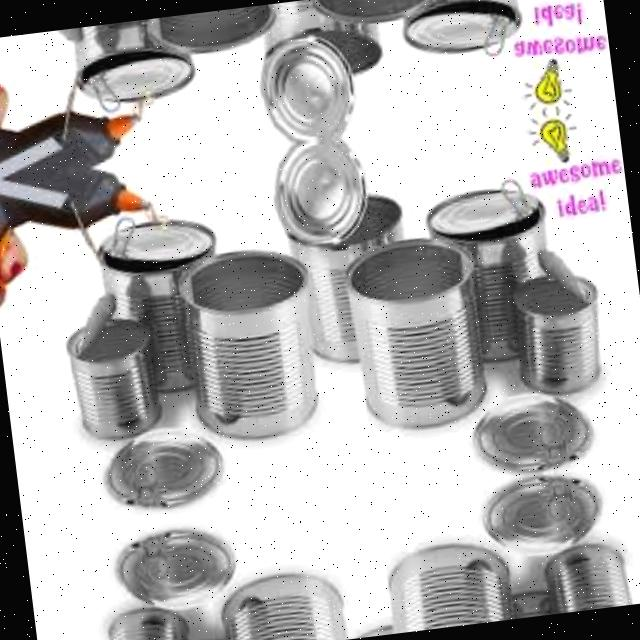Metal: (174, 241, 328, 446), (340, 230, 490, 435), (93, 204, 234, 400), (422, 172, 562, 365), (283, 186, 419, 368), (504, 242, 608, 399), (61, 286, 161, 442), (377, 536, 515, 634), (70, 14, 200, 116), (262, 134, 370, 252), (250, 28, 358, 146), (465, 384, 595, 481), (475, 465, 605, 562), (97, 422, 227, 516), (109, 520, 239, 614), (259, 0, 384, 87), (214, 564, 354, 640), (397, 0, 526, 67), (145, 3, 281, 59), (539, 536, 634, 614), (472, 585, 594, 623), (308, 0, 440, 29), (99, 603, 188, 640), (336, 616, 452, 640), (28, 24, 112, 48), (145, 631, 266, 640)
